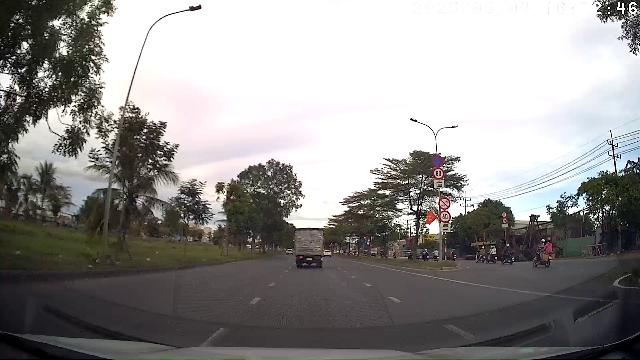127-toc-do-toi-da-60: (439, 211, 451, 223)
127-toc-do-toi-da-80: (432, 167, 444, 179)
130-cam-dung-va-do-xe: (431, 155, 444, 167)
